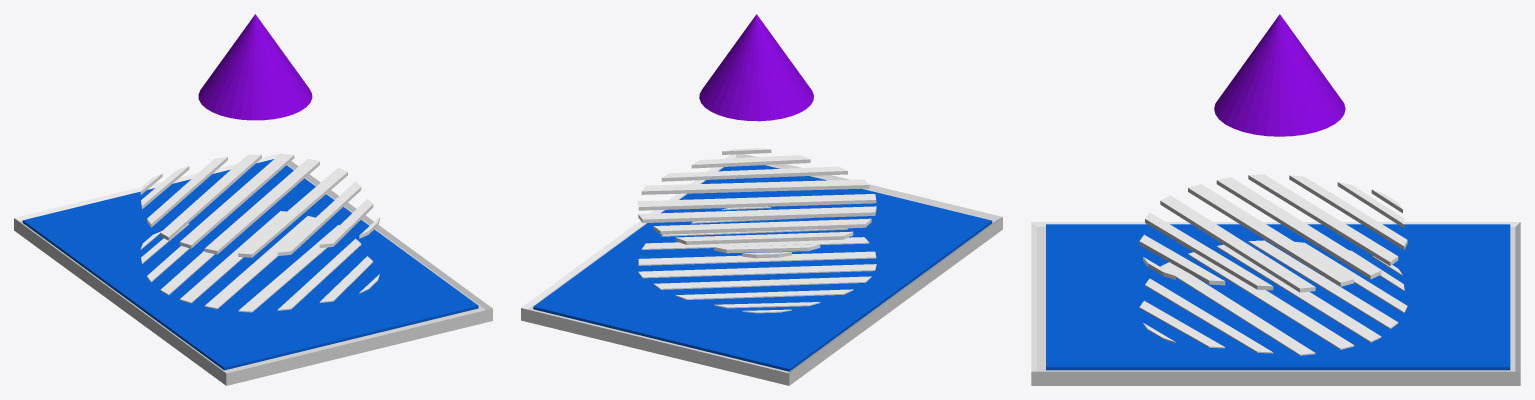
File: blend3.glb
3 renders of one model, left to right at view 1: azimuth 30°, elevation 25°; view 2: azimuth 150°, elevation 25°; view 3: azimuth 270°, elevation 25°, orthographic. The views are drawn at different scales.
Parts seen in each view (by area): view 1: Cube.001, Cube, Cone, Cube.002, Cube.011, Cube.003, Cube.006, Cube.021, Cube.020, Cube.004, Cube.012, Cube.007 (+6 smaller); view 2: Cube.001, Cube, Cone, Cube.002, Cube.011, Cube.003, Cube.006, Cube.012, Cube.021, Cube.004, Cube.017, Cube.007 (+6 smaller); view 3: Cube.001, Cube, Cone, Cube.002, Cube.011, Cube.003, Cube.006, Cube.020, Cube.021, Cube.017, Cube.004, Cube.012 (+6 smaller).
Boxes of the visible parts, x1,y1,x2,y2 form: Cube.001: [22, 159, 478, 370]; Cube: [14, 153, 492, 385]; Cone: [198, 14, 312, 120]; Cube.002: [204, 158, 319, 254]; Cube.011: [179, 153, 294, 248]; Cube.003: [238, 167, 347, 257]; Cube.006: [160, 154, 261, 240]; Cube.021: [204, 216, 315, 309]; Cube.020: [238, 225, 339, 312]; Cube.004: [277, 181, 361, 255]; Cube.012: [179, 211, 286, 303]; Cube.007: [147, 157, 227, 227]; Cube.001: [533, 165, 992, 371]; Cube: [521, 154, 1002, 385]; Cone: [699, 14, 813, 121]; Cube.002: [638, 194, 876, 210]; Cube.011: [638, 206, 876, 222]; Cube.003: [641, 179, 869, 194]; Cube.006: [653, 218, 871, 234]; Cube.012: [638, 264, 876, 278]; Cube.021: [638, 251, 876, 265]; Cube.004: [661, 166, 847, 181]; Cube.017: [653, 276, 871, 289]; Cube.007: [675, 231, 853, 244]; Cube.001: [1046, 224, 1510, 370]; Cube: [1031, 222, 1520, 385]; Cone: [1214, 14, 1345, 136]; Cube.002: [1188, 184, 1354, 286]; Cube.011: [1216, 177, 1381, 279]; Cube.003: [1160, 195, 1315, 292]; Cube.006: [1248, 174, 1398, 265]; Cube.020: [1160, 262, 1315, 355]; Cube.021: [1188, 252, 1354, 349]; Cube.017: [1248, 240, 1398, 329]; Cube.004: [1145, 212, 1273, 290]; Cube.012: [1216, 244, 1381, 342].
Bounding box in the file's own units: 1.81 × 1.69 × 2.5.
